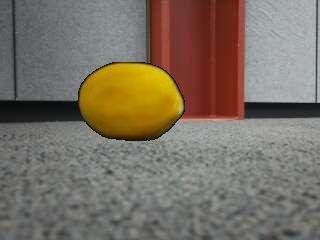lemon: (79, 63, 182, 140)
